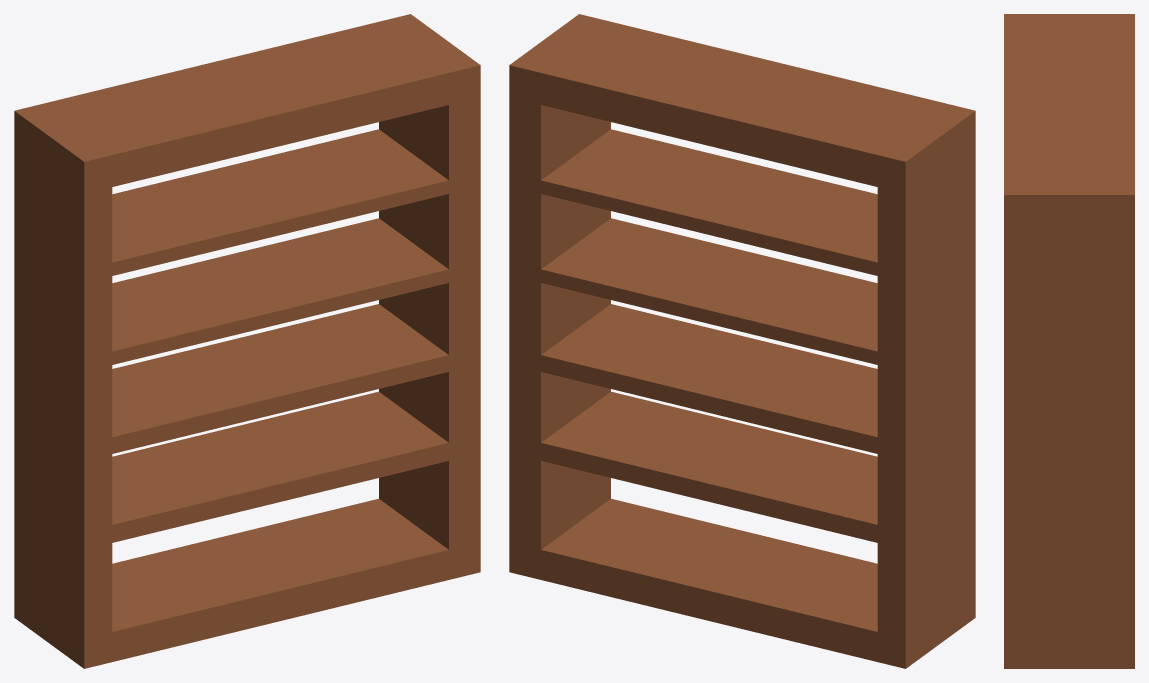
The model's file is Shelf_1.fbx.
The picture shows the model from 3 angles, left to right: view 1: azimuth 30°, elevation 25°; view 2: azimuth 150°, elevation 25°; view 3: azimuth 270°, elevation 25°; orthographic projection. The views are drawn at different scales.
Parts seen in each view (by area): view 1: Cube.069; view 2: Cube.069; view 3: Cube.069.
Part boxes in pixels (x1=…): Cube.069: x1=14, y1=14, x2=480, y2=668; Cube.069: x1=509, y1=14, x2=975, y2=668; Cube.069: x1=1004, y1=14, x2=1134, y2=668.
Size of the model in its own units: 180 by 220 by 55.
